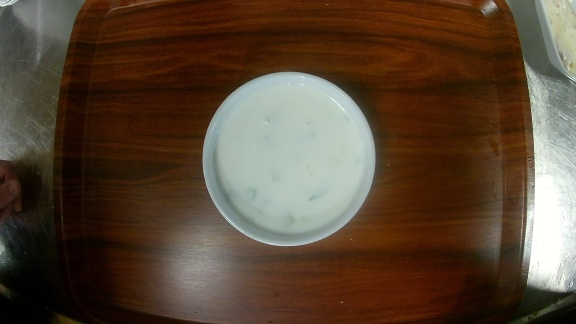cacik: (201, 71, 377, 245)
